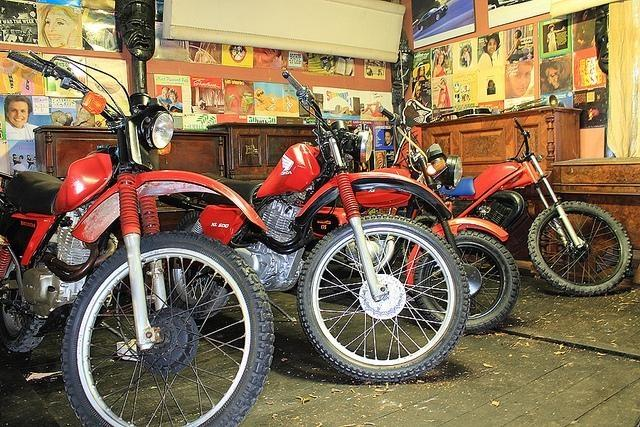motorcycle: (2, 48, 274, 421), (253, 68, 472, 382), (390, 118, 630, 296), (351, 104, 523, 334)
